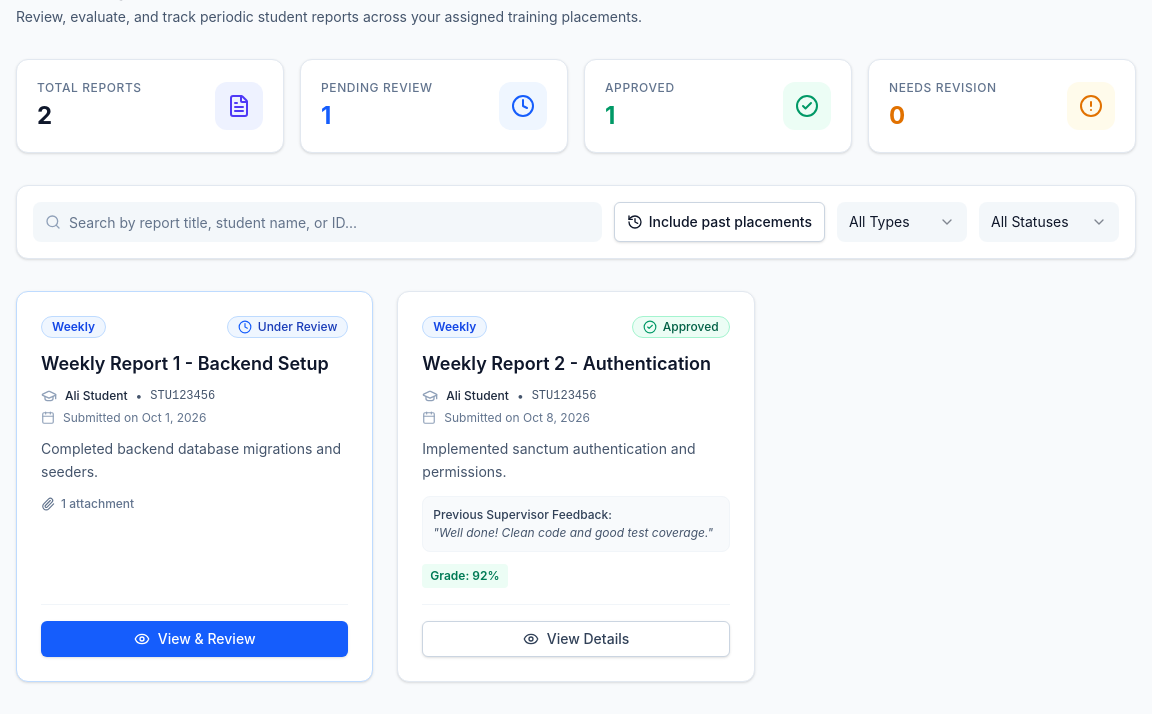
it: SupervisorReportsPage › opens review dialog when clicking View & Review on submitted report
The image size is (1152, 714).
(page scrolled)
Click the button "View & Review": (195, 638) left=41, top=620, right=348, bottom=656
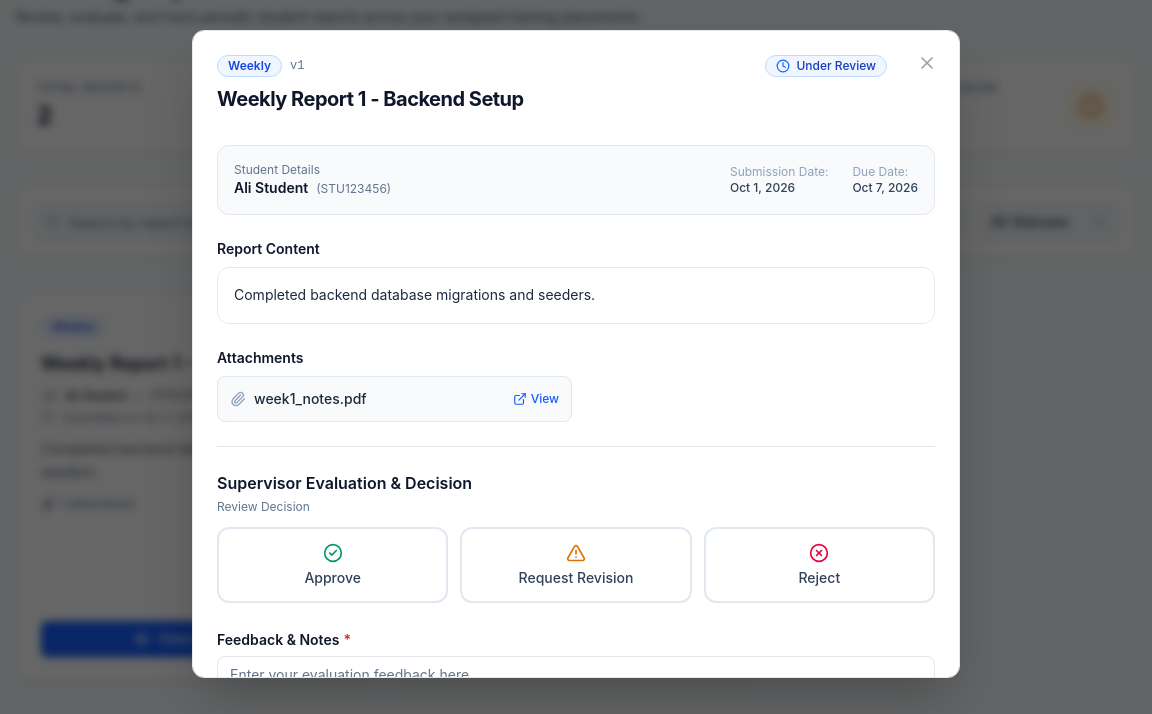
Result: the dialog is shown
Result: the text "Completed backend database migrations and seeders." is shown at left=217, top=267, right=935, bottom=324
